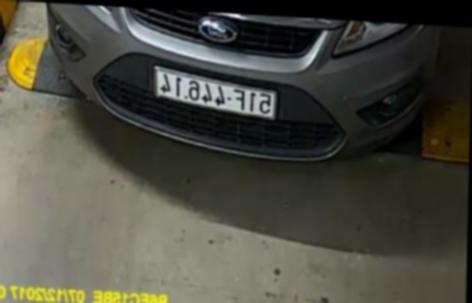License_Plate: (147, 70, 284, 120)
